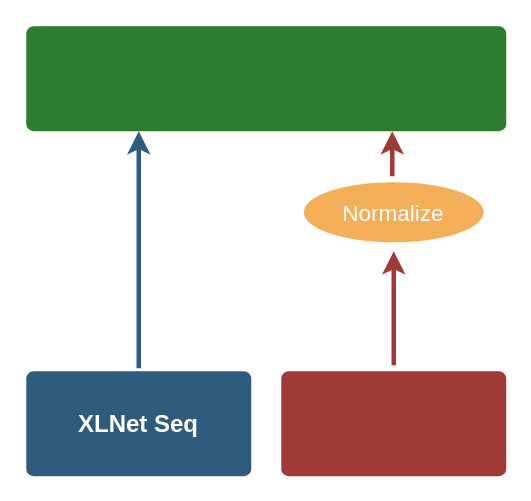
This 531x501 diagram has some shape labels left out. Here are the shapes that lost their labels. From the top down, the centre of each, then its label:
At (x=266, y=78): "Logistic Regression".
At (x=393, y=423): "Doc2Vec".
